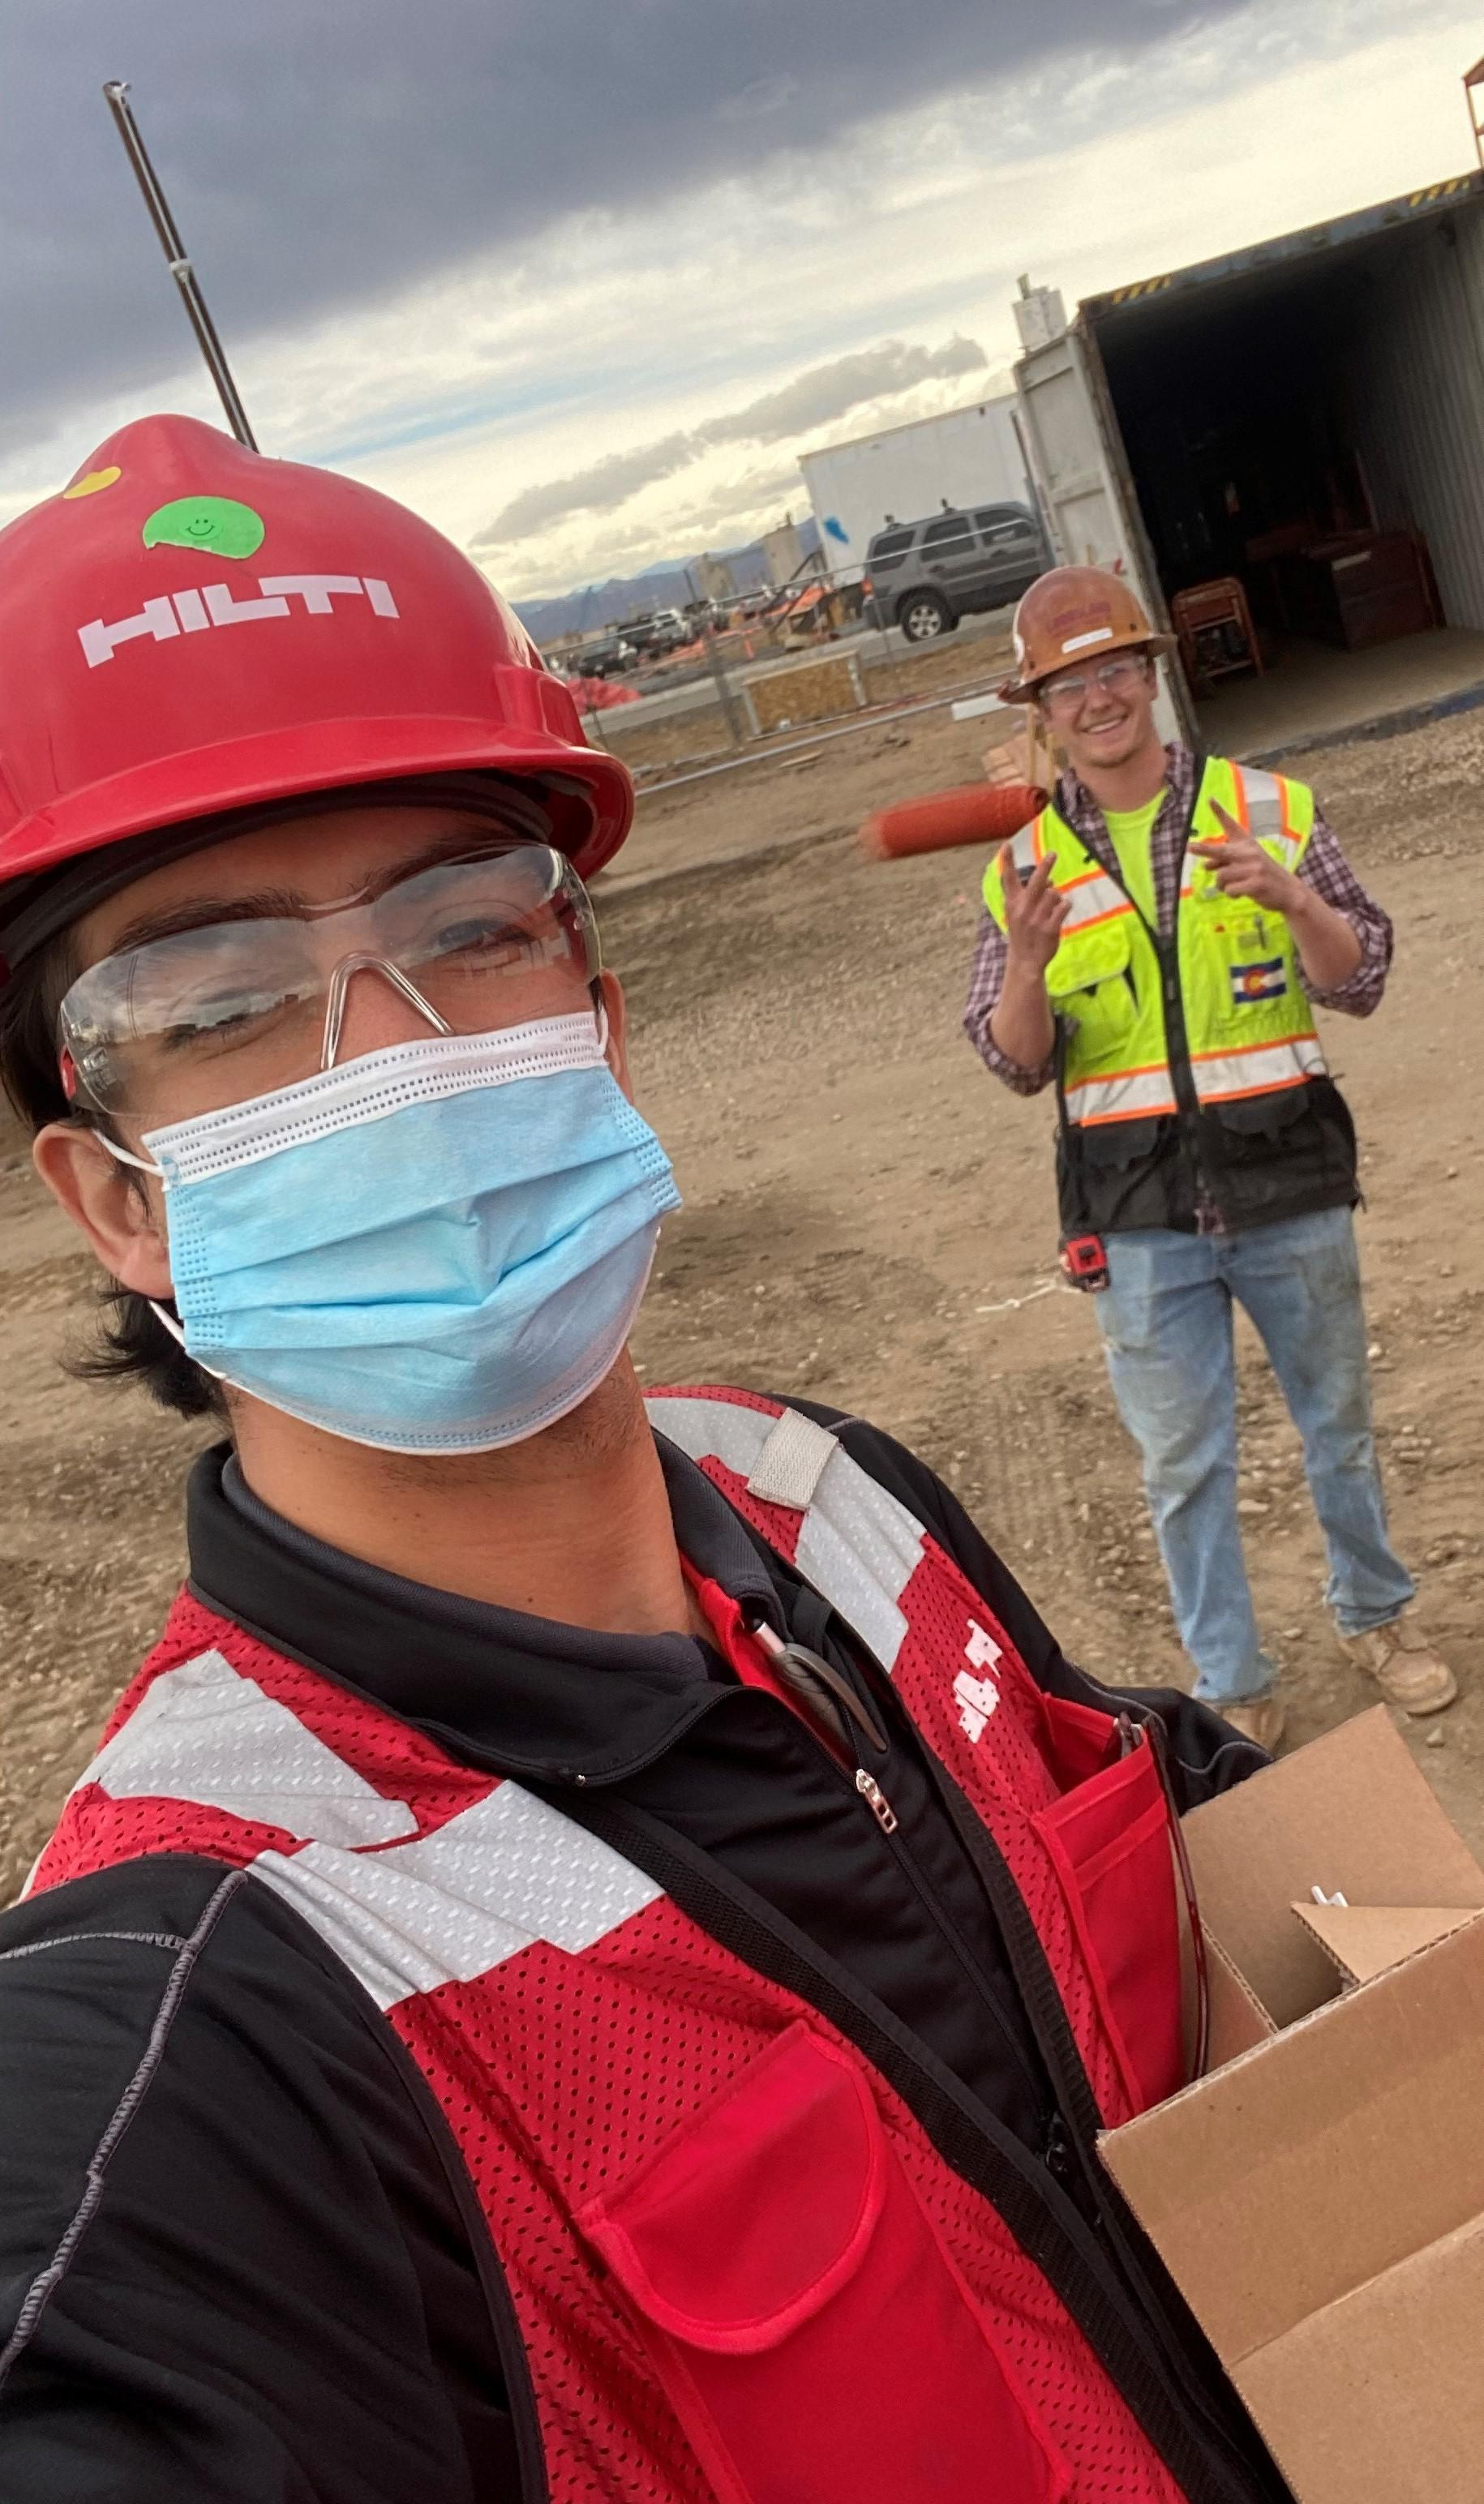helmet: (2, 411, 632, 874), (977, 756, 1366, 1248), (988, 560, 1185, 701)
